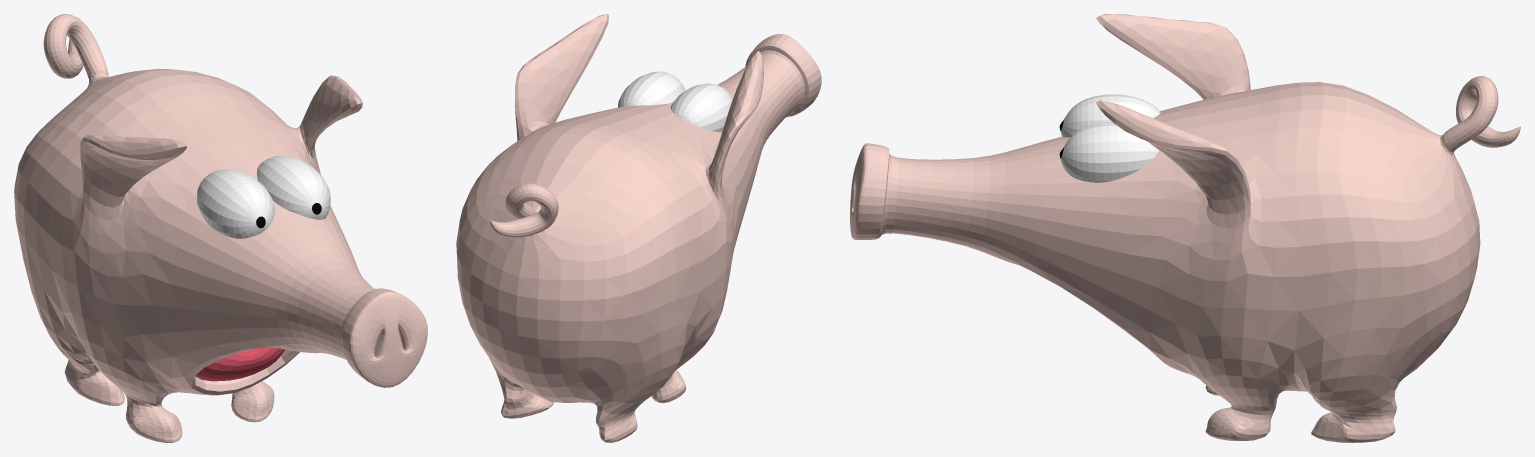
File: pig.obj
3 views of the same model, side by side, from view 1: azimuth 30°, elevation 25°; view 2: azimuth 150°, elevation 25°; view 3: azimuth 270°, elevation 25° (orthographic). The views are drawn at different scales.
Parts seen in each view (by area): view 1: skin, eyes, tongue; view 2: skin, eyes; view 3: skin, eyes.
Boxes of the visible parts, bbox=[...] form: skin: bbox=[14, 14, 427, 442]; eyes: bbox=[197, 156, 330, 238]; tongue: bbox=[195, 347, 285, 381]; skin: bbox=[456, 14, 821, 442]; eyes: bbox=[618, 71, 732, 132]; skin: bbox=[850, 14, 1520, 442]; eyes: bbox=[1060, 94, 1160, 182].
Bounding box in the file's own units: 0.683 × 0.9181 × 1.57.
